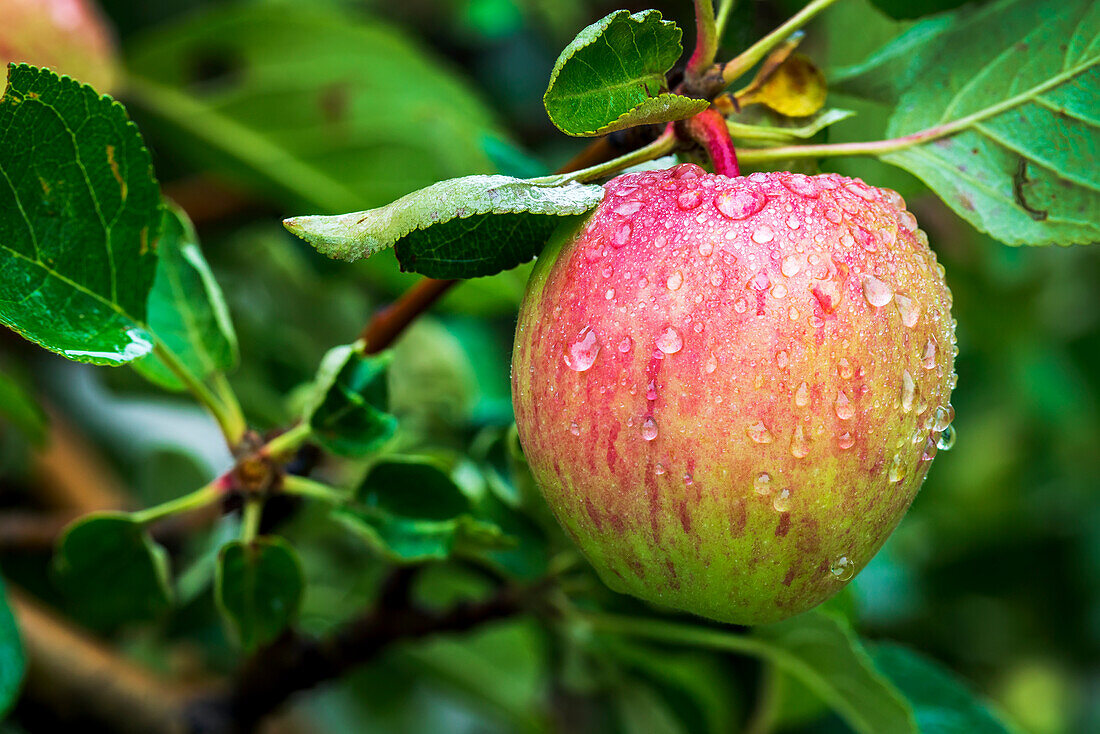apple/: (487, 156, 1020, 651)
